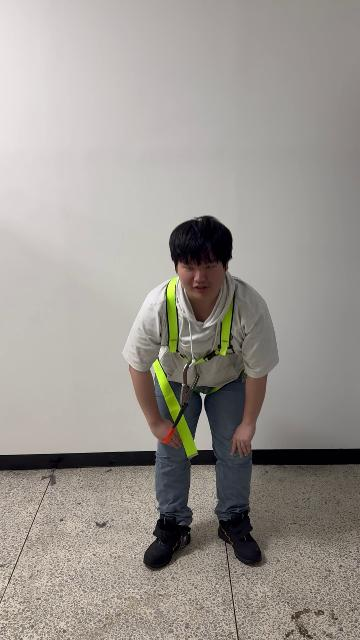helmet_not_worn: (169, 214, 235, 272)
shoe_worn: (143, 515, 191, 568), (217, 512, 260, 564)
vest_worn: (150, 278, 242, 455)
